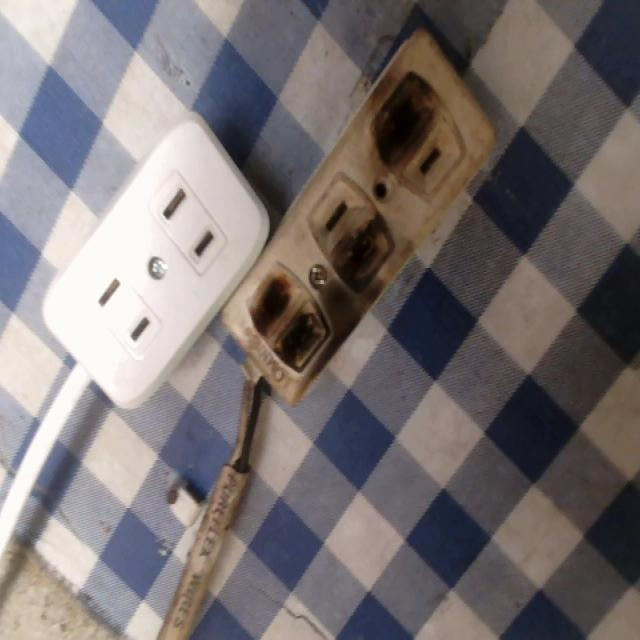-: (243, 272, 331, 373), (375, 68, 438, 167), (332, 213, 398, 304)
